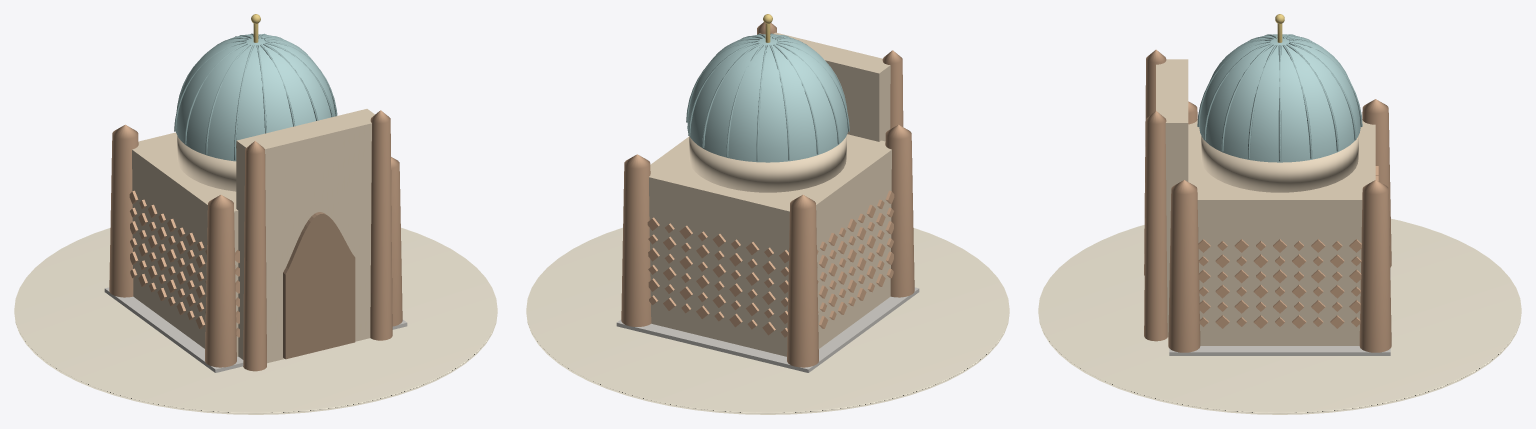
Rendered from karakhan.glb.
3 renders of one model, left to right at view 1: azimuth 30°, elevation 25°; view 2: azimuth 150°, elevation 25°; view 3: azimuth 270°, elevation 25°, orthographic.
Parts seen in each view (by area): view 1: ground, pishtaq, dome, walls, corner-tower (×3), portal-column (×2), portal, drum, plinth; view 2: ground, walls, dome, corner-tower (×3), drum, pishtaq, plinth, portal-column; view 3: ground, walls, dome, corner-tower (×3), portal-column (×2), drum, pishtaq, plinth.
Boxes of the visible parts, x1=… form: ground: x1=14, y1=227, x2=497, y2=414; pishtaq: x1=236, y1=109, x2=374, y2=363; dome: x1=176, y1=34, x2=335, y2=161; walls: x1=132, y1=132, x2=238, y2=356; corner-tower (×3): x1=109, y1=124, x2=402, y2=367; portal-column (×2): x1=243, y1=110, x2=392, y2=371; portal: x1=283, y1=212, x2=355, y2=359; drum: x1=177, y1=136, x2=236, y2=191; plinth: x1=104, y1=287, x2=407, y2=372; ground: x1=526, y1=227, x2=1009, y2=414; walls: x1=649, y1=134, x2=891, y2=356; dome: x1=687, y1=34, x2=847, y2=162; corner-tower (×3): x1=621, y1=124, x2=914, y2=367; drum: x1=689, y1=136, x2=846, y2=192; pishtaq: x1=759, y1=32, x2=890, y2=141; plinth: x1=616, y1=287, x2=919, y2=372; portal-column: x1=882, y1=50, x2=903, y2=128; ground: x1=1038, y1=218, x2=1521, y2=414; walls: x1=1188, y1=119, x2=1375, y2=345; dome: x1=1199, y1=34, x2=1360, y2=162; corner-tower (×3): x1=1168, y1=99, x2=1391, y2=352; portal-column (×2): x1=1144, y1=49, x2=1167, y2=341; drum: x1=1201, y1=136, x2=1358, y2=192; pishtaq: x1=1156, y1=59, x2=1188, y2=336; plinth: x1=1169, y1=268, x2=1390, y2=355.
Bounding box in the file's own units: 4.8 × 3.27 × 4.8.
